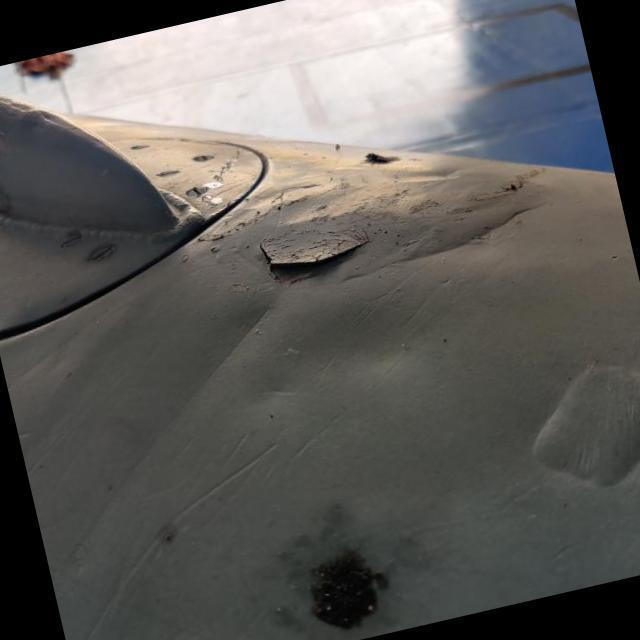dent: (292, 284, 438, 400)
